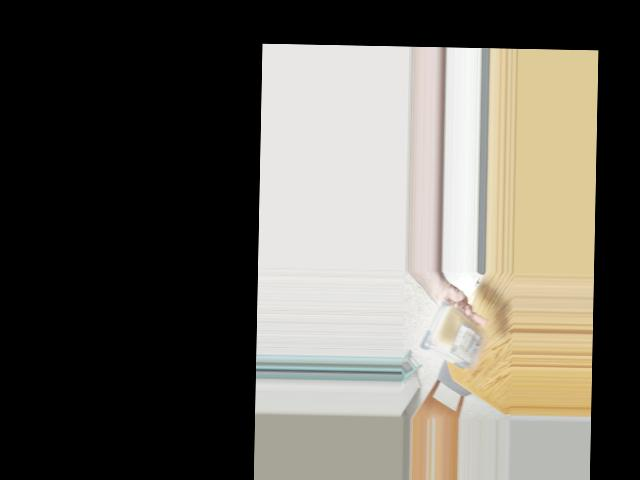cheese: (424, 301, 481, 374)
